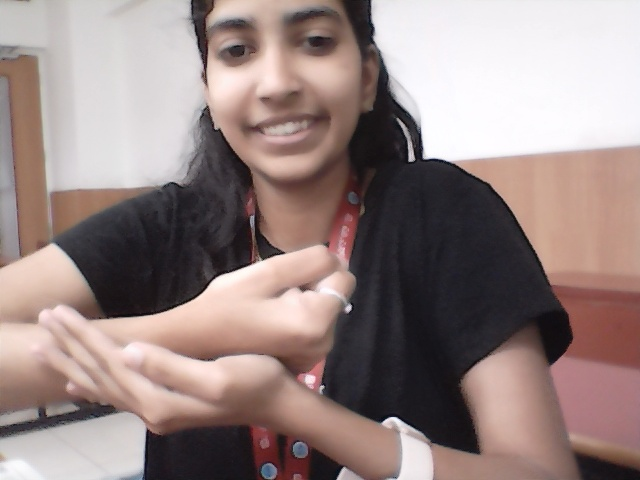Baby: (22, 223, 388, 463)
